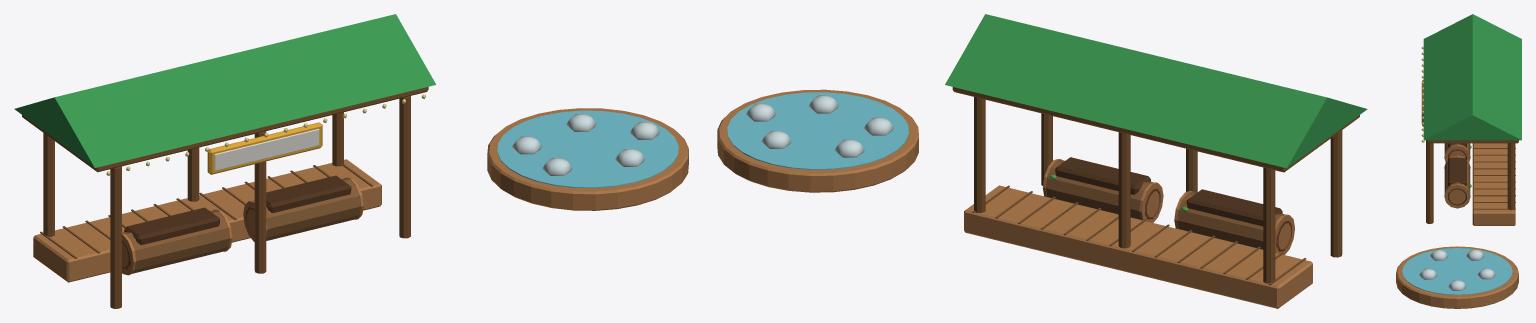
The model's file is park-flume.glb.
3 views of the same model, side by side, from view 1: azimuth 30°, elevation 25°; view 2: azimuth 150°, elevation 25°; view 3: azimuth 270°, elevation 25° (orthographic). The views are drawn at different scales.
Parts seen in each view (by area): view 1: pk_flume_mesh, pk_flume_pool_mesh, pk_flume_log0_mesh, pk_flume_log1_mesh; view 2: pk_flume_mesh, pk_flume_pool_mesh, pk_flume_log1_mesh, pk_flume_log0_mesh; view 3: pk_flume_mesh, pk_flume_pool_mesh, pk_flume_log1_mesh, pk_flume_log0_mesh.
Part boxes in pixels (<box>): pk_flume_mesh: <box>14,14,436,308</box>; pk_flume_pool_mesh: <box>487,108,688,210</box>; pk_flume_log0_mesh: <box>122,207,232,275</box>; pk_flume_log1_mesh: <box>243,175,363,241</box>; pk_flume_mesh: <box>945,14,1367,308</box>; pk_flume_pool_mesh: <box>717,89,918,192</box>; pk_flume_log1_mesh: <box>1042,157,1163,222</box>; pk_flume_log0_mesh: <box>1174,189,1294,254</box>; pk_flume_mesh: <box>1421,14,1521,225</box>; pk_flume_pool_mesh: <box>1396,246,1518,308</box>; pk_flume_log1_mesh: <box>1444,155,1471,208</box>; pk_flume_log0_mesh: <box>1444,143,1471,161</box>.
Size of the model in its own units: 13.9 by 4.14 by 4.1.
